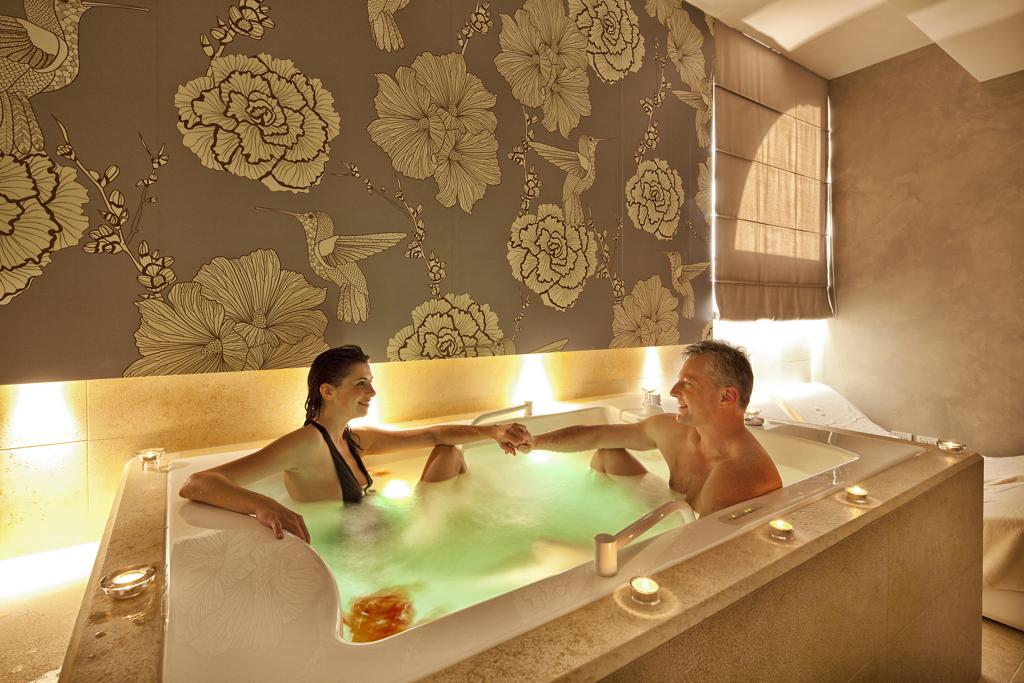face: (669, 353, 719, 424), (332, 365, 374, 417)
